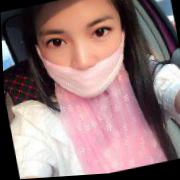WRONG: (32, 1, 133, 109)
